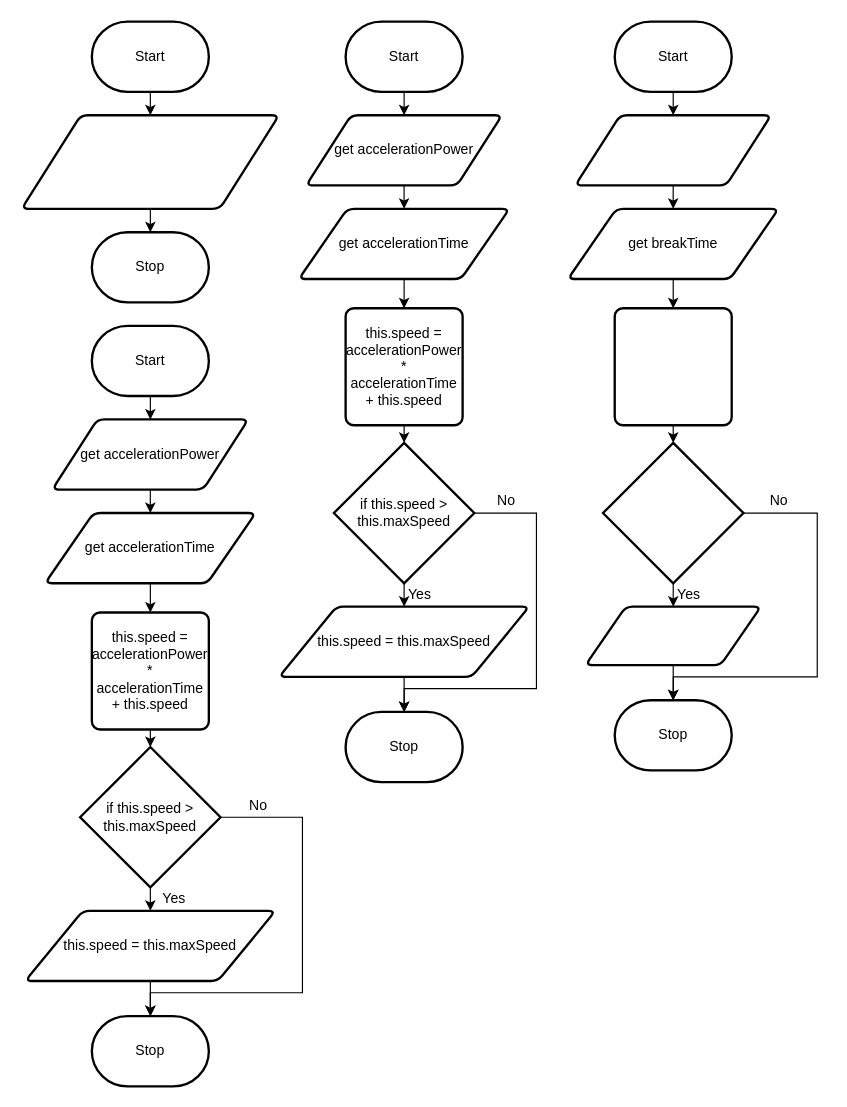
Image size: 847x1107. Some labels were removed from this diagram. The centre of each missing label's shape, as x and y in pixels:
"Display speed, max speed, door number, license plate, color" belongs at (150,161).
"get breakPower" belongs at (672,149).
"if this.speed < 0" belongs at (672,512).
"this.speed = 0" belongs at (673,635).
"this.speed = this.speed - breakPower * breakTime" belongs at (672,366).
